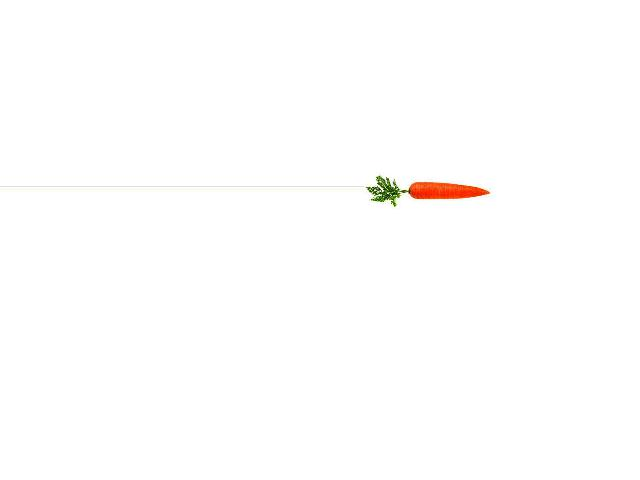carrot: (406, 179, 492, 202)
